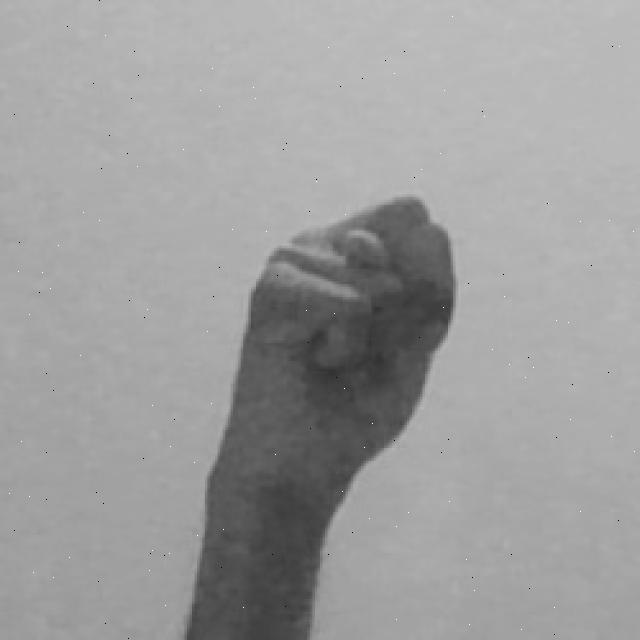N: (180, 189, 462, 640)
